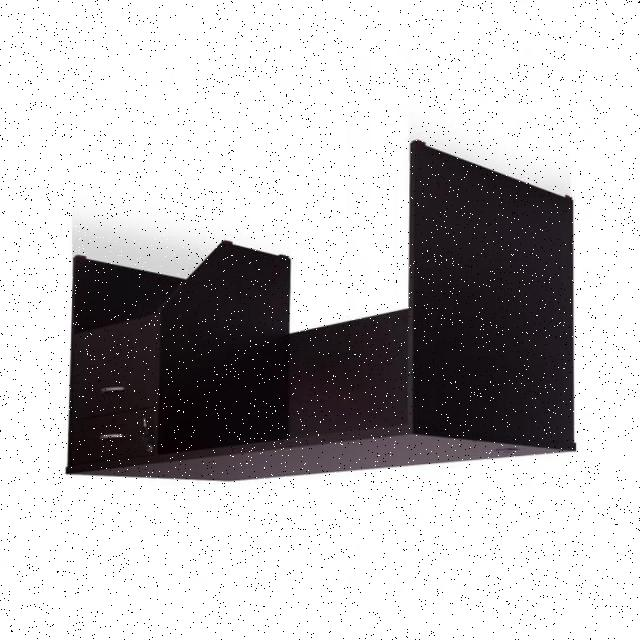mobile-phone: (68, 141, 580, 487)
